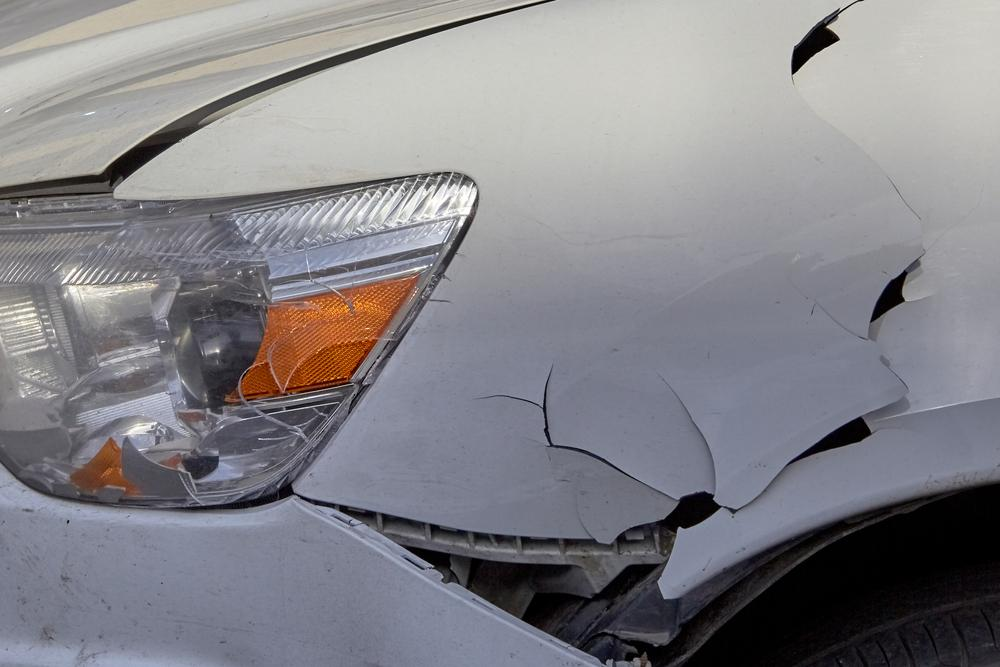crack: (475, 0, 986, 531)
lamp broken: (0, 174, 479, 509)
